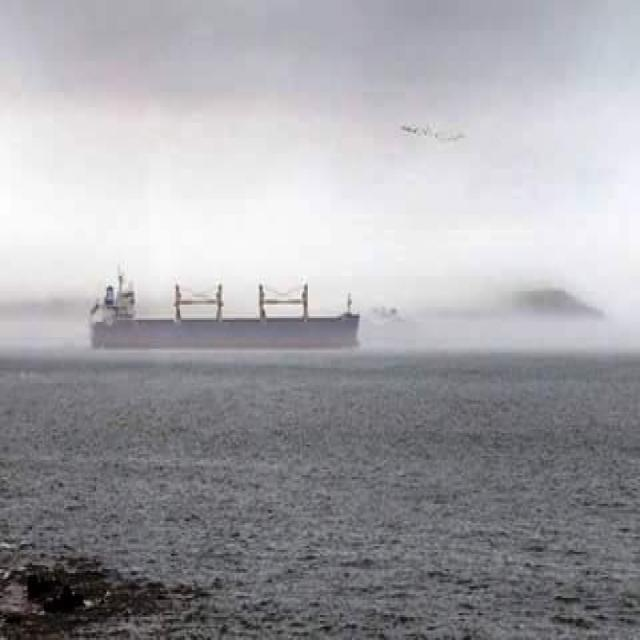cargoship: (90, 264, 365, 352)
